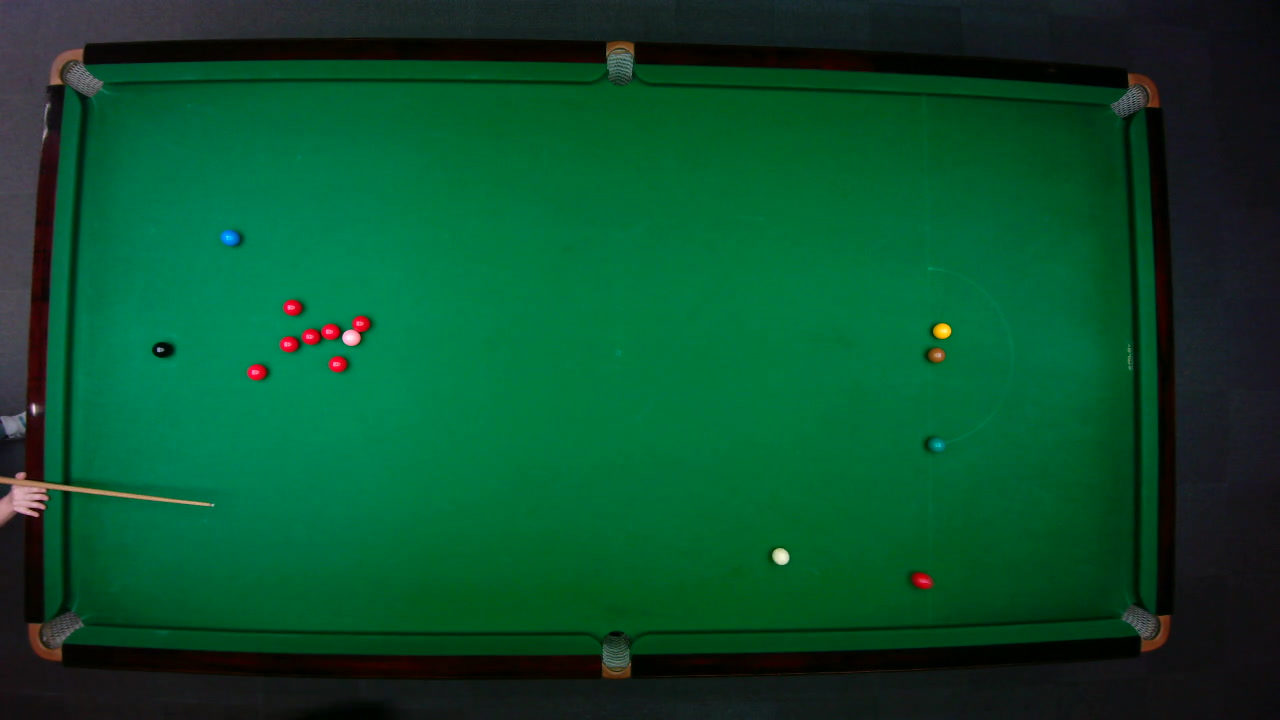bag: (26, 608, 85, 660), (47, 47, 104, 97), (1118, 603, 1170, 651), (1108, 72, 1160, 118), (601, 629, 630, 679), (605, 39, 633, 86)
black: (150, 340, 172, 358)
blue: (218, 228, 240, 246)
brown: (926, 346, 945, 362)
cue: (0, 474, 217, 511)
green: (925, 435, 945, 452)
pink: (340, 328, 362, 346)
red: (910, 570, 934, 589), (245, 362, 268, 380), (327, 354, 348, 373), (299, 327, 321, 345), (277, 334, 299, 352), (280, 298, 303, 315), (350, 314, 371, 332), (319, 322, 341, 339)
white: (770, 546, 790, 565)
yellow: (931, 321, 952, 338)
zone: (926, 265, 1013, 444)
